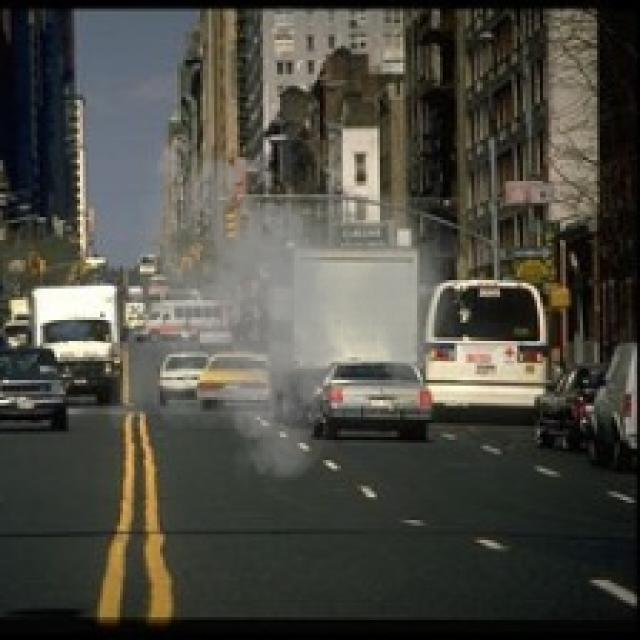smoke: (109, 129, 460, 494)
